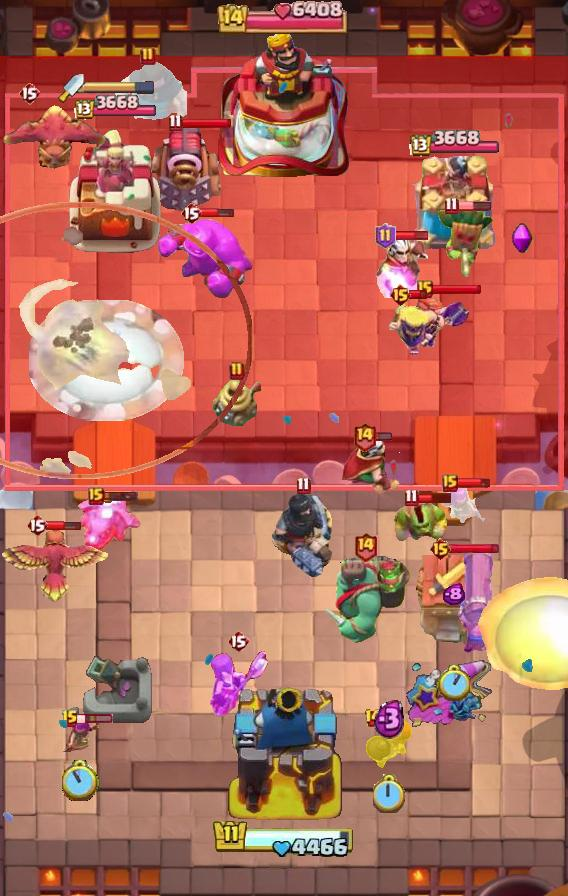arrows: (387, 299, 447, 357)
bar: (64, 124, 164, 256)
battle-healer: (455, 550, 501, 654)
cannon: (440, 485, 488, 525), (60, 716, 100, 756)
clock: (212, 818, 356, 860), (217, 0, 351, 34)
clone: (153, 216, 255, 300)
electro-spirit: (374, 697, 407, 738), (443, 582, 466, 605)
elixir: (61, 760, 99, 801), (374, 775, 407, 814), (438, 665, 471, 701)
emote: (448, 541, 500, 554), (180, 117, 232, 129), (430, 283, 482, 295), (416, 492, 453, 505), (102, 490, 139, 502), (77, 713, 114, 725), (456, 200, 492, 212), (455, 477, 491, 489), (201, 207, 236, 219), (394, 231, 430, 242), (46, 521, 82, 532), (408, 288, 427, 300), (374, 430, 393, 441)
flying-machine: (391, 498, 451, 552)
goblin-barrel: (435, 203, 495, 279)
goblin-drill: (213, 378, 261, 426)
golden-knight: (0, 528, 112, 606)
golem: (148, 121, 224, 211)
graveyard: (74, 495, 142, 551)
ice-golem: (365, 721, 413, 771)
inferno-dragon: (269, 492, 337, 584)
king-tower: (218, 27, 350, 181), (223, 680, 345, 826)
king-tower-bar: (84, 80, 156, 94)
lava-hound: (318, 553, 412, 647)
mother-witch: (0, 103, 108, 175)
queen-tower: (407, 156, 499, 256)
rascal-boy: (207, 648, 269, 720)
royal-ghost: (0, 201, 252, 478)
royal-hog: (109, 59, 187, 127)
selected: (407, 129, 499, 158), (72, 95, 156, 122)
skeleton-king: (340, 433, 418, 495), (374, 234, 430, 298)
skeleton-king-skill: (511, 222, 533, 256)
sparky: (410, 554, 496, 652)
tesla-evolution: (404, 293, 472, 353)
text: (351, 420, 376, 451), (353, 531, 378, 561), (388, 283, 411, 307), (429, 537, 452, 561), (375, 223, 396, 249), (18, 81, 40, 105), (180, 201, 202, 225), (26, 513, 48, 537), (227, 629, 249, 653), (365, 708, 384, 728), (61, 709, 79, 729), (140, 46, 156, 66), (229, 361, 245, 381), (417, 280, 433, 298), (442, 474, 458, 492), (88, 487, 104, 505), (445, 197, 460, 216), (296, 477, 311, 496), (169, 113, 183, 132), (405, 489, 419, 508)
valkyrie: (472, 571, 568, 701)
wall-breaker: (29, 300, 184, 421)
